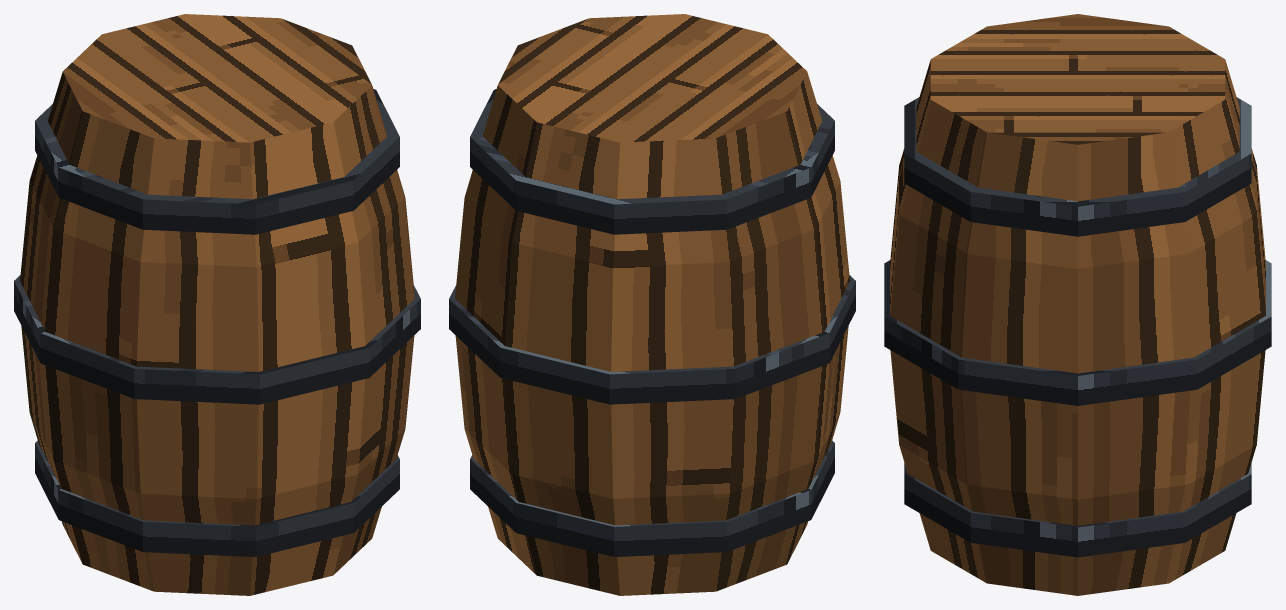
Rendered from barrel.glb.
3 views of the same model, side by side, from view 1: azimuth 30°, elevation 25°; view 2: azimuth 150°, elevation 25°; view 3: azimuth 270°, elevation 25° (orthographic).
Visible parts, largest first — view 1: barrel; view 2: barrel; view 3: barrel.
Boxes of the visible parts, x1,y1,x2,y2 form: barrel: (14,14,420,595); barrel: (449,14,855,595); barrel: (884,14,1271,595).
Size of the model in its own units: 0.736 by 0.9 by 0.7.
Materials: 2 (2 with a texture image).
